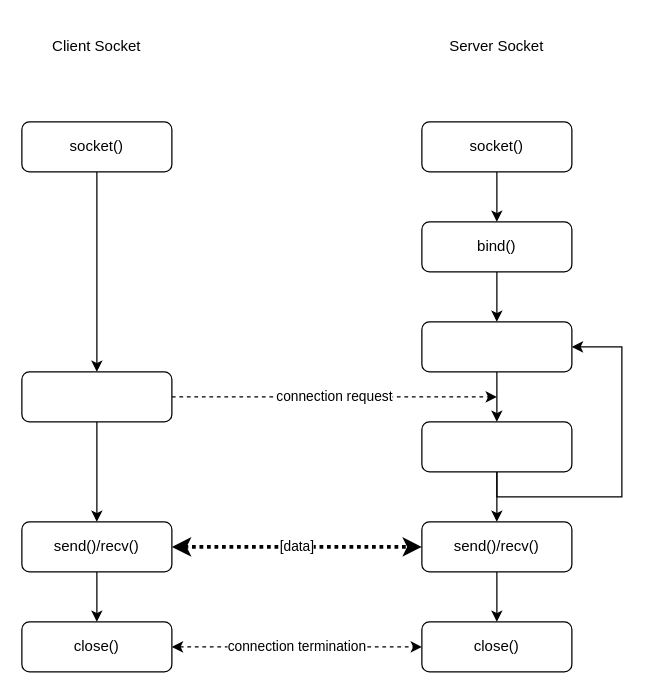
Some shapes in this 654 by 694 pixel diagram are drawn without their labels. Here are the shapes that lost their labels. From the top down, the box of each, then its label:
(421, 321, 572, 372): listen()
(21, 371, 172, 422): connect()
(421, 421, 572, 472): accept()
